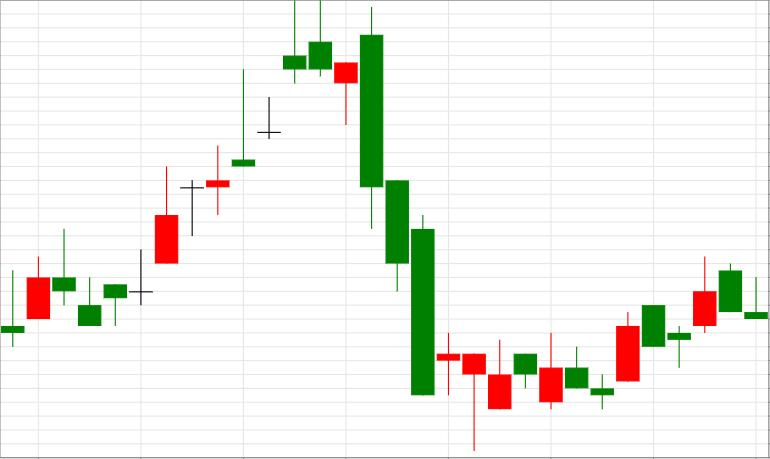shooting_star_fall: (155, 0, 332, 263)
